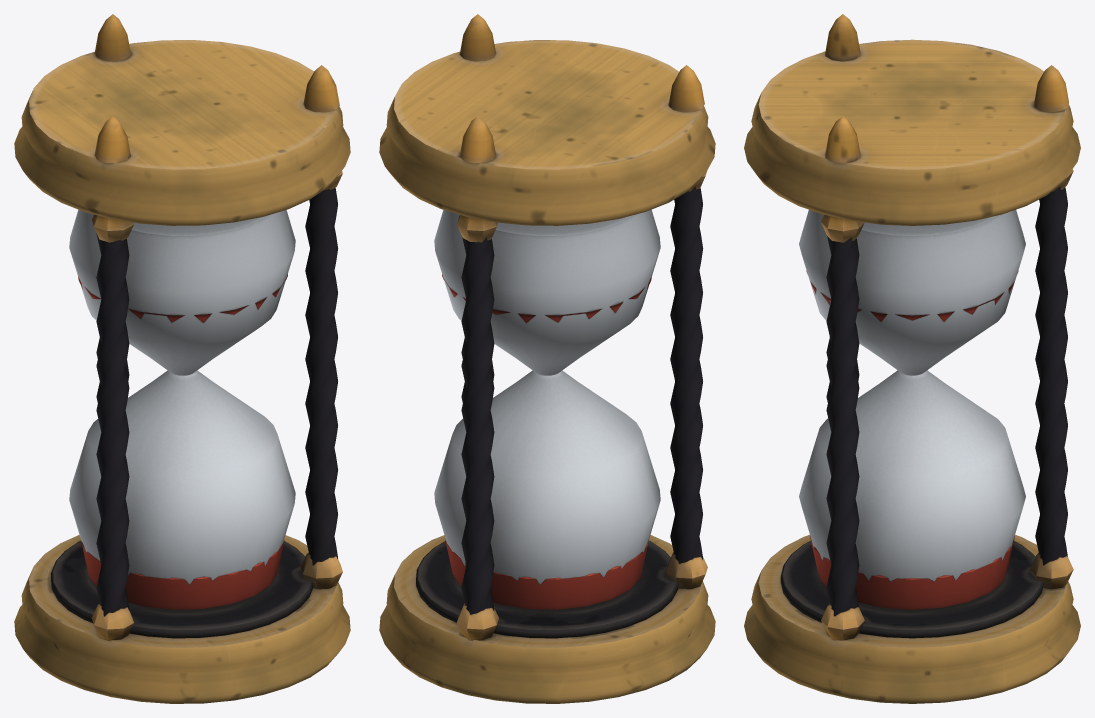
The model's file is Hourglass.fbx.
3 views of the same model, side by side, from view 1: azimuth 30°, elevation 25°; view 2: azimuth 150°, elevation 25°; view 3: azimuth 270°, elevation 25° (orthographic).
Parts seen in each view (by area): view 1: Hourglass_Main, Hourglass_Glass; view 2: Hourglass_Main, Hourglass_Glass; view 3: Hourglass_Main, Hourglass_Glass.
Boxes of the visible parts, x1,y1,x2,y2 form: Hourglass_Main: [14, 14, 350, 703]; Hourglass_Glass: [69, 209, 295, 584]; Hourglass_Main: [379, 14, 715, 703]; Hourglass_Glass: [434, 209, 660, 584]; Hourglass_Main: [744, 14, 1080, 703]; Hourglass_Glass: [799, 210, 1025, 581].
Bounding box in the file's own units: 92 × 172 × 92.
